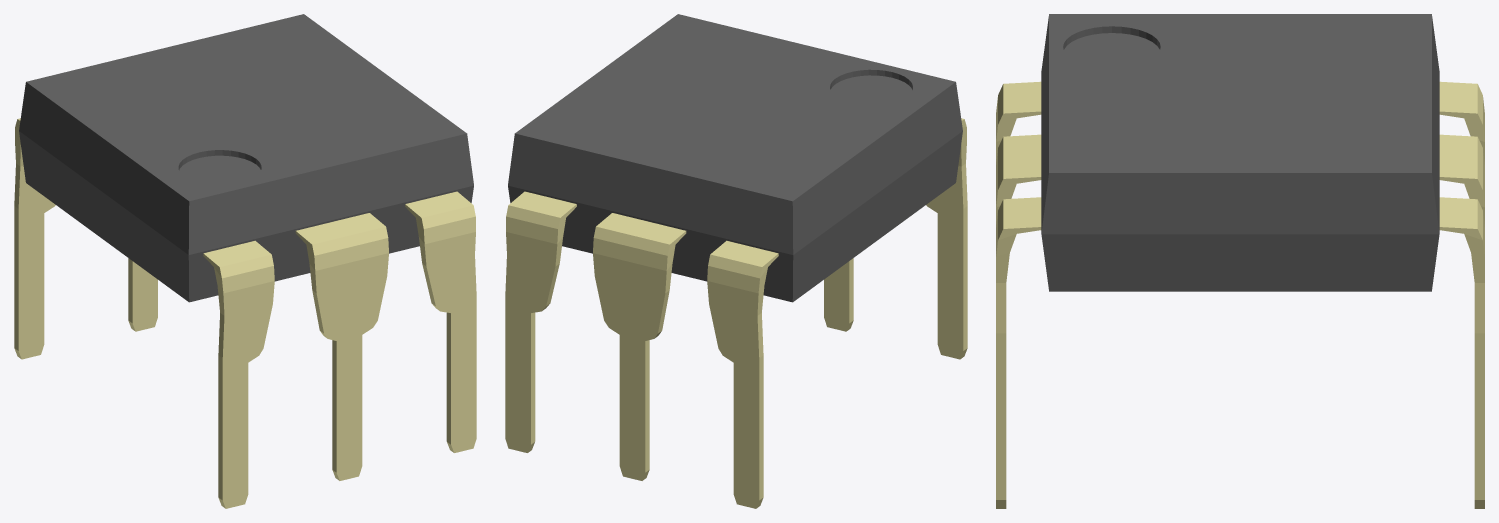
3 views of the same model, side by side, from view 1: azimuth 30°, elevation 25°; view 2: azimuth 150°, elevation 25°; view 3: azimuth 270°, elevation 25° (orthographic). The views are drawn at different scales.
Visible parts, largest first — view 1: Cube.003; view 2: Cube.003; view 3: Cube.003.
Boxes of the visible parts, x1,y1,x2,y2 form: Cube.003: [14, 14, 476, 508]; Cube.003: [505, 14, 967, 508]; Cube.003: [996, 14, 1484, 508].
Size of the model in its own units: 251 by 248 by 318.
